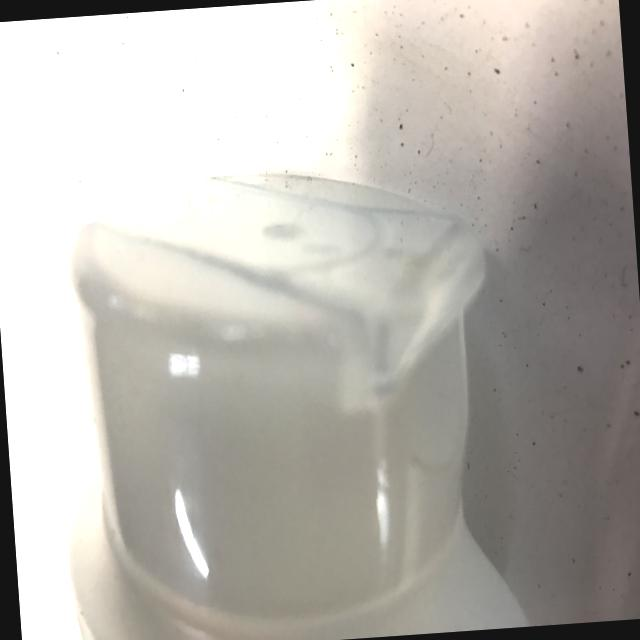Plastic: (34, 111, 518, 640)
